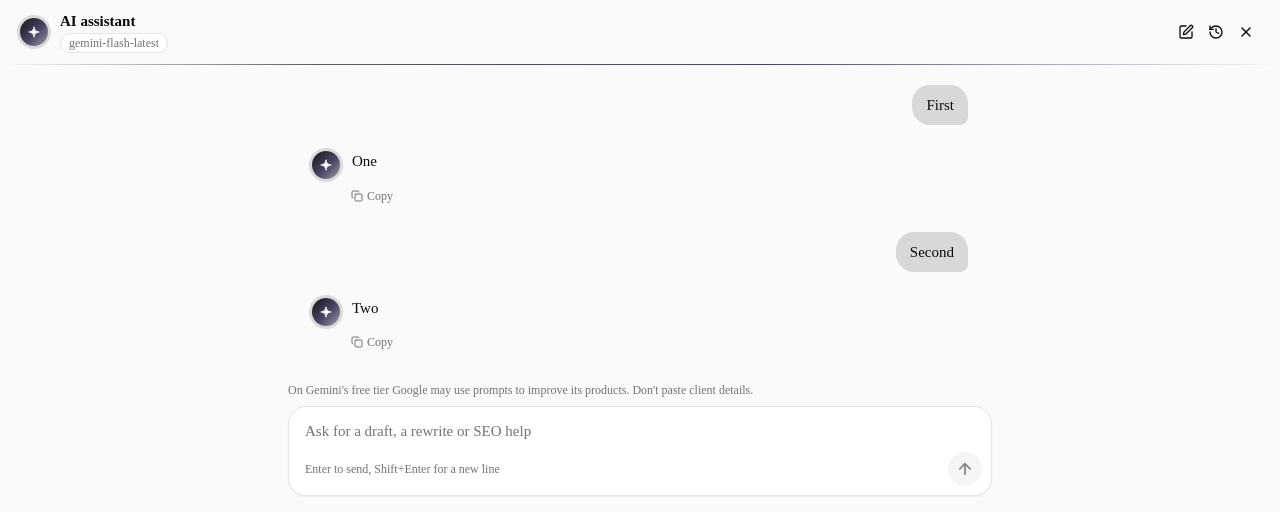
Test: AssistantPanel › says Copied after copying a reply
Click the button "Copy" below "Two": (373, 342) [344,330,402,354]
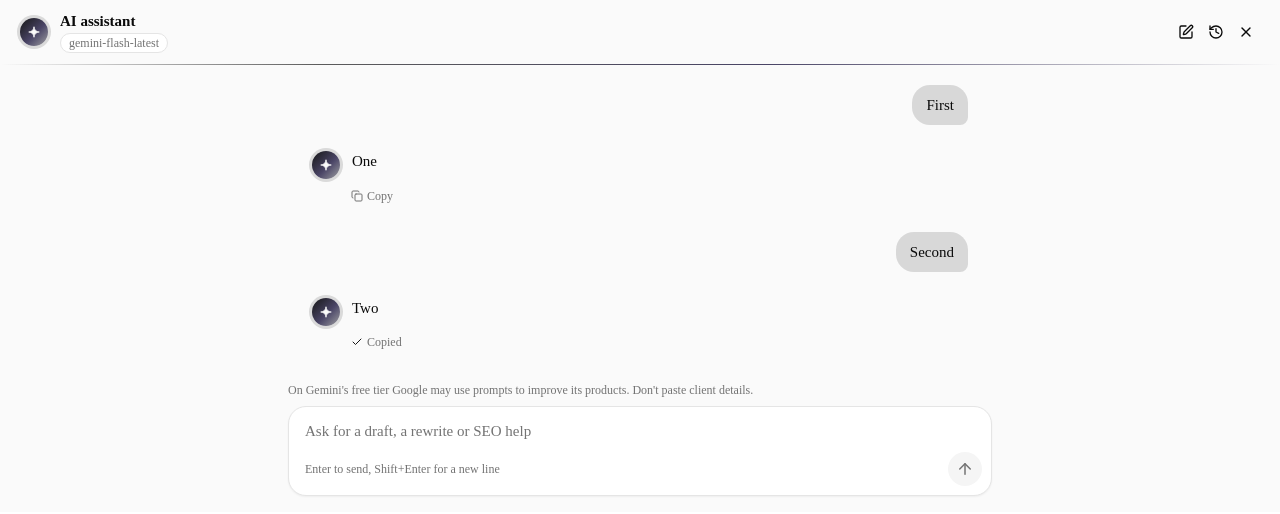
Check: the button "Copied" is shown, box [344,330,411,354]
